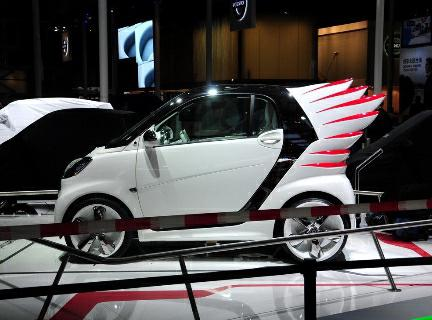smart-forjeremy: (61, 81, 381, 239), (1, 99, 121, 212)
